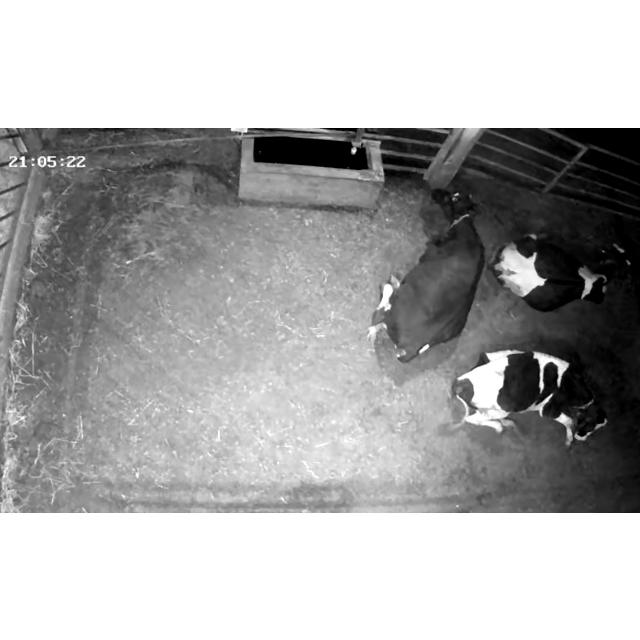lay: (374, 183, 486, 364), (450, 344, 612, 452), (493, 212, 637, 314)
